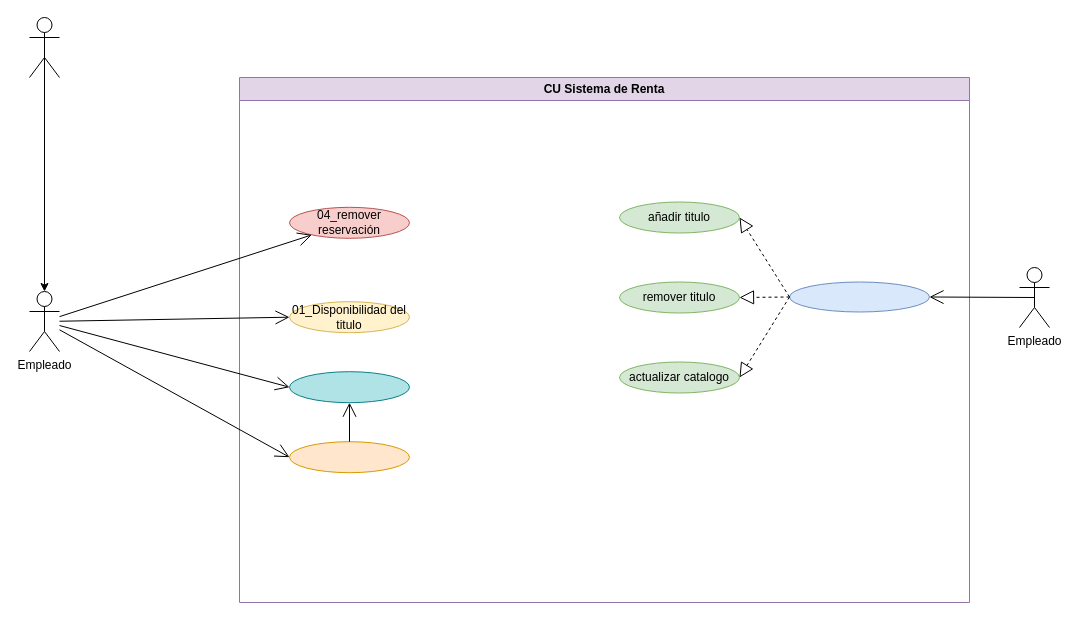
Image size: 1078x620. Some labels were removed from this diagram. Here are the shapes that lost their labels. From the top down, the centre of each, then its label:
At pixel 44 47: "Cliente".
At pixel 859 296: "01.1_Mantenimiento".
At pixel 349 387: "03_Devolución de titulo".
At pixel 349 457: "02_Préstamo de titulo".
